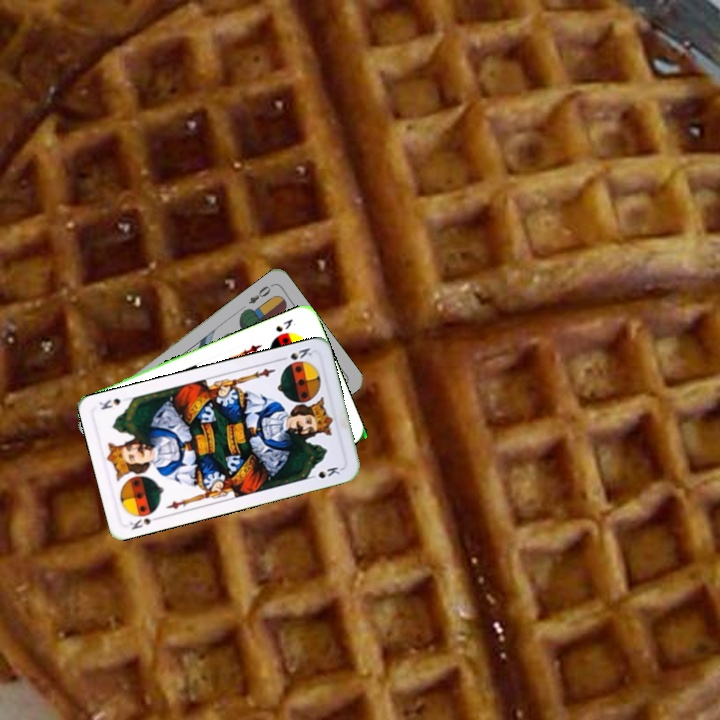EO: (244, 282, 274, 307)
SK: (275, 344, 315, 363), (126, 512, 163, 532), (272, 315, 296, 335)
